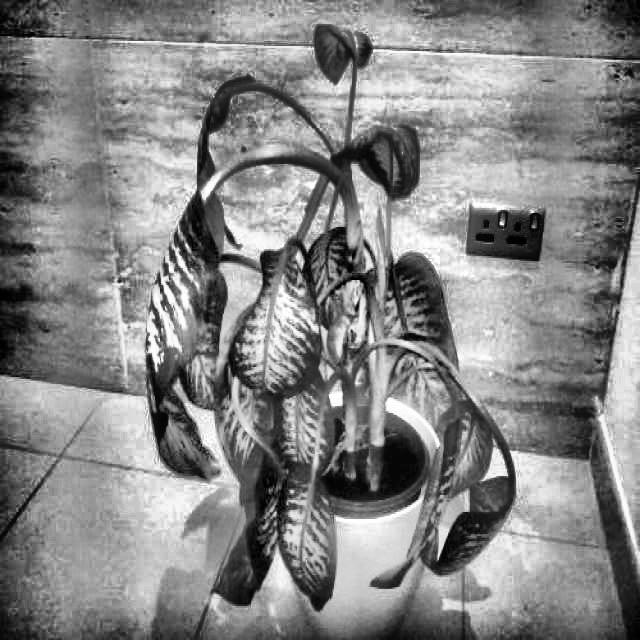plants: (143, 17, 502, 638), (193, 70, 254, 252)
